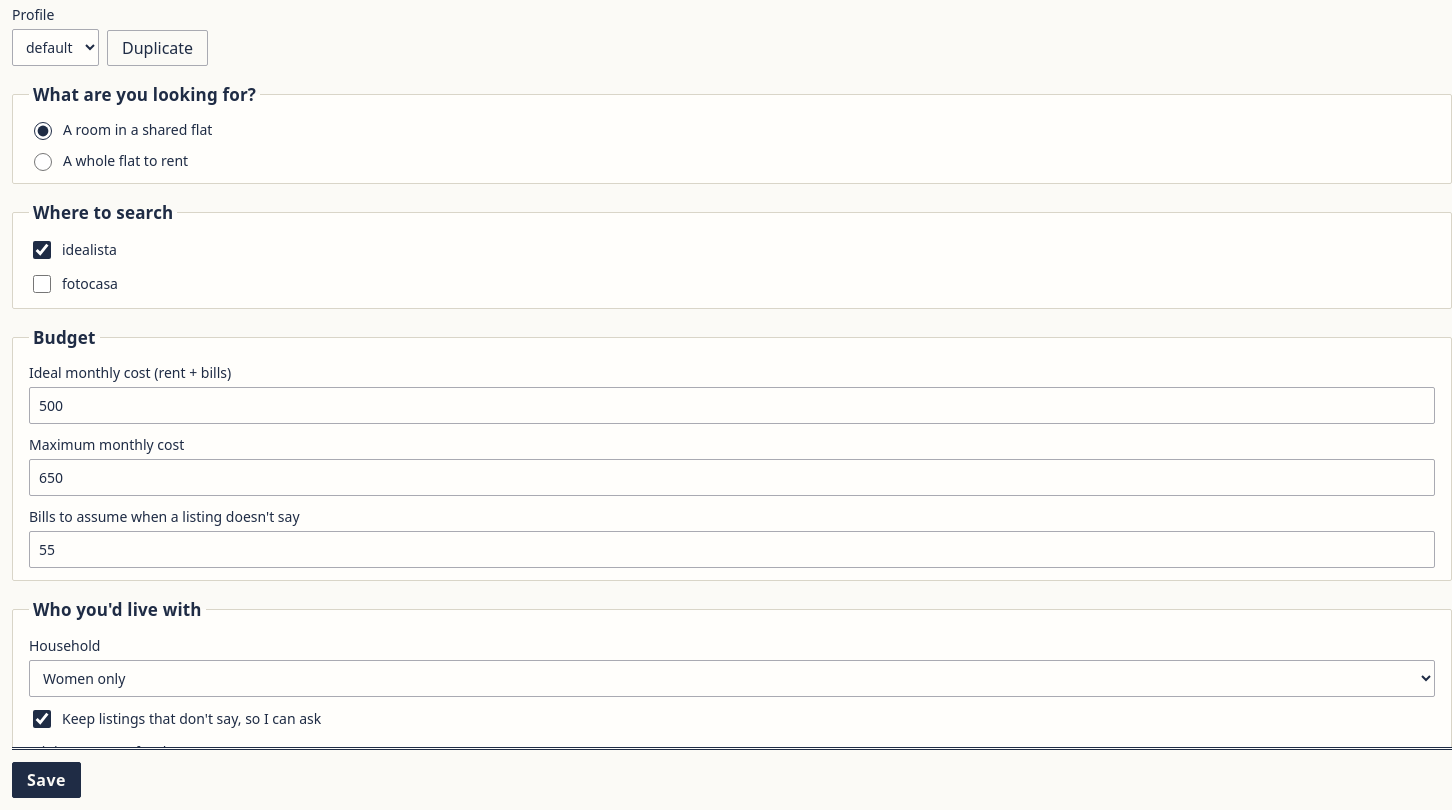
errors on nested fields are shown, not swallowed
The image size is (1452, 810).
(page scrolled)
Replace the text in the number field labelled "Ideal monthly cost (rent + bills)" with "0" at point(732, 406), box [29,387,1435,424]
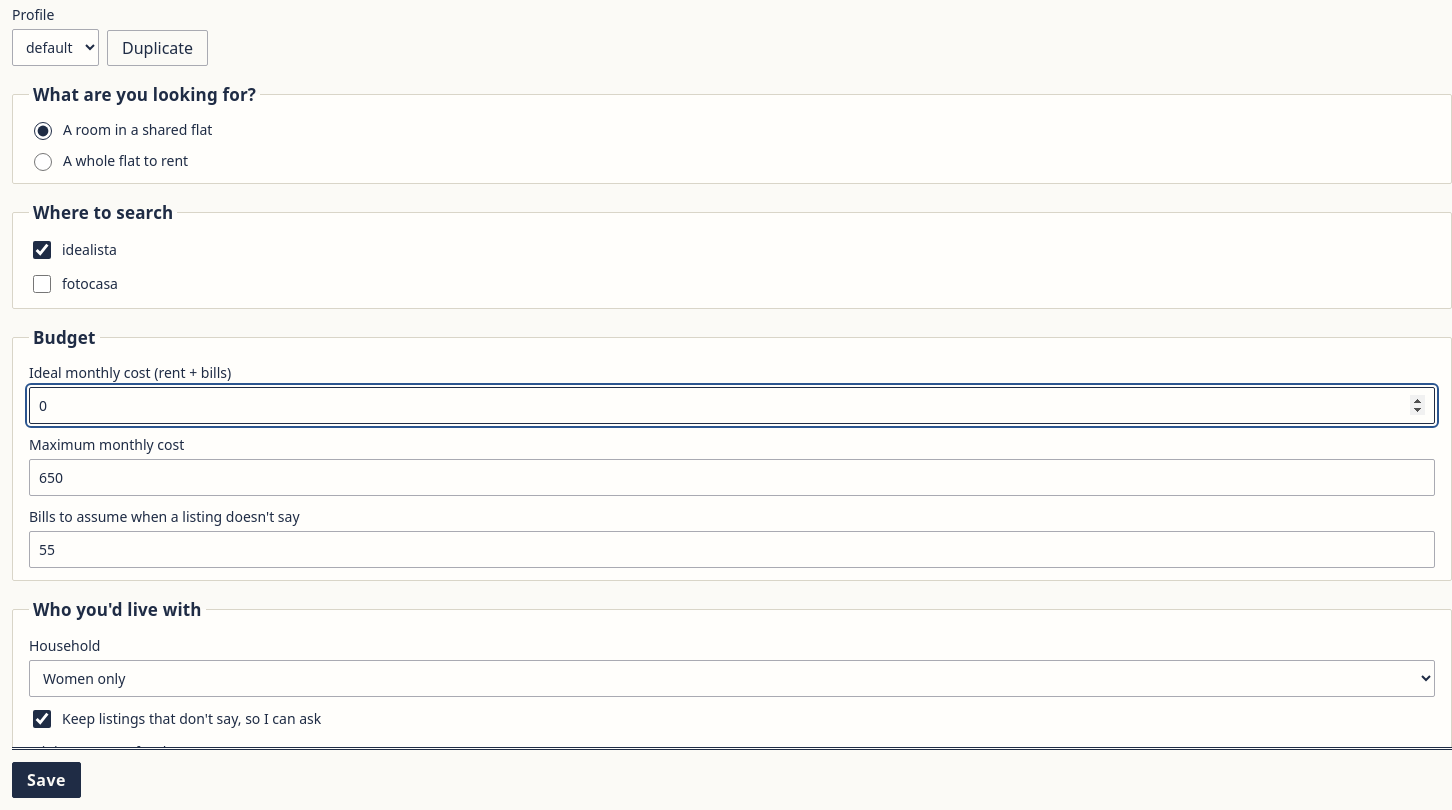
Click the button "Save" at point(46, 780), box [12,762,81,798]
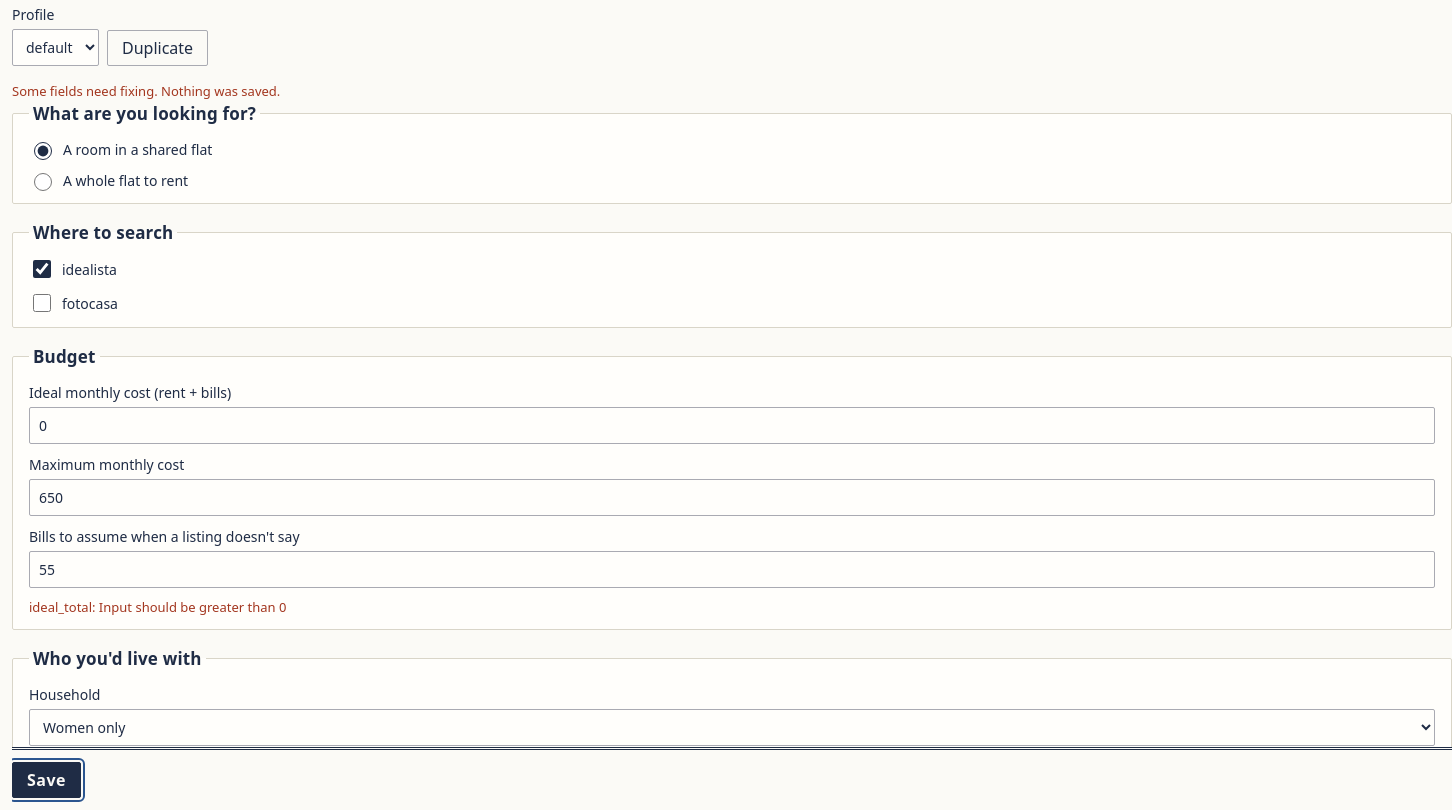
Result: the text "ideal_total: Input should be greater than 0" is shown at [29,598,286,616]
Result: the message shows "Some fields need fixing" at [12,82,280,100]
